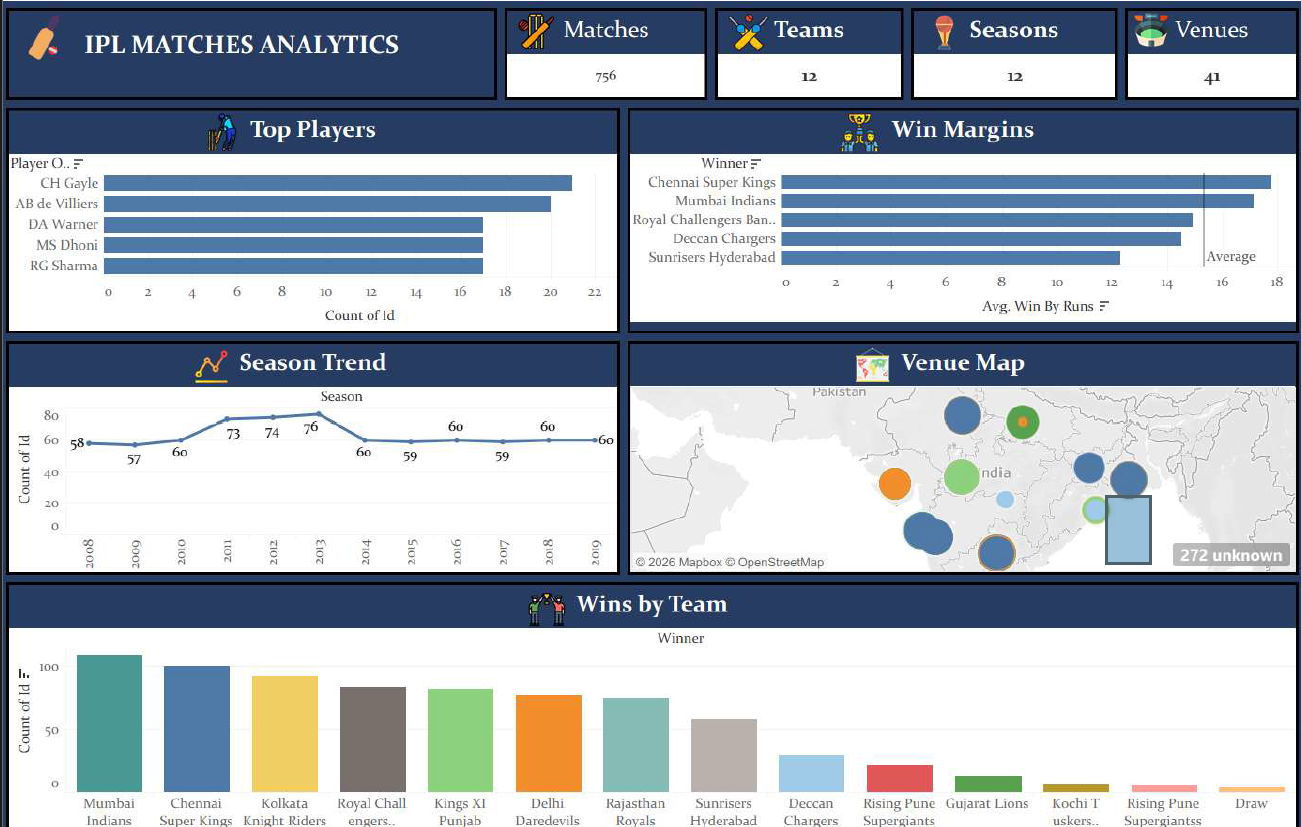

This screenshot's page, from the dashboard's own definition file:
{"tool":"tableau","page":{"name":"Dashboard 1","canvas":[1400,900],"ordinal":0},"visuals":[{"type":"text","box":[8,8,531,105.6]},{"type":"worksheet","title":"Matches","mark":"Automatic","box":[539,8,224,105.6]},{"type":"worksheet","title":"Teams","mark":"Automatic","box":[763,8,209,105.6]},{"type":"worksheet","title":"Seasons","mark":"Automatic","box":[972,8,227,105.6]},{"type":"worksheet","title":"Venues","mark":"Automatic","box":[1199,8,193,105.6]},{"type":"image","param":"D:/Paras/My Document/Coding Ninja/Tableau/Case Study/Images/bat_8254692.png","box":[778,15,50,45]},{"type":"image","param":"D:/Paras/My Document/Coding Ninja/Tableau/Case Study/Images/Stadium.png","box":[1207,16,48,37]},{"type":"image","param":"D:/Paras/My Document/Coding Ninja/Tableau/Case Study/Images/cricket_2160064.png","box":[554,17,46,39]},{"type":"image","param":"D:/Paras/My Document/Coding Ninja/Tableau/Case Study/Images/Trophy.png","box":[990,18,44,39]},{"type":"worksheet","title":"Top Players","mark":"Automatic","rows":["player_of_match"],"cols":["id"],"box":[8,113.6,662,248.8]},{"type":"worksheet","title":"Win Margins","mark":"Automatic","rows":["winner"],"cols":["win_by_runs"],"box":[670,113.6,722,248.8]},{"type":"image","param":"D:/Paras/My Document/Coding Ninja/Tableau/Case Study/Images/Winner teams.png","box":[891,121,60,46]},{"type":"image","param":"D:/Paras/My Document/Coding Ninja/Tableau/Case Study/Images/Cricket Player.png","box":[212,122,59,43]},{"type":"worksheet","title":"Season Trend","mark":"Automatic","rows":["id"],"cols":["Season"],"box":[8,362.5,662,255.5]},{"type":"worksheet","title":"Venue Map","mark":"Automatic","box":[670,362.5,722,255.5]},{"type":"image","param":"D:/Paras/My Document/Coding Ninja/Tableau/Case Study/Images/Map.png","box":[907,372,56,38]},{"type":"image","param":"D:/Paras/My Document/Coding Ninja/Tableau/Case Study/Images/Trend line.png","box":[200,374,60,38]},{"type":"worksheet","title":"Wins by Team","mark":"Automatic","rows":["id"],"cols":["winner"],"box":[8,618,1384,274]},{"type":"image","param":"D:/Paras/My Document/Coding Ninja/Tableau/Case Study/Images/Win Team.png","box":[558,629,59,40]}]}

Visuals, with their boxes in screenshot pixels (x1, y1, x2, y2), scaled from the page's 1400x900 canvas onto the 1301x827 screenshot:
text: pyautogui.locateOnScreen(7, 7, 501, 104)
"Matches" worksheet: pyautogui.locateOnScreen(501, 7, 709, 104)
"Teams" worksheet: pyautogui.locateOnScreen(709, 7, 903, 104)
"Seasons" worksheet: pyautogui.locateOnScreen(903, 7, 1114, 104)
"Venues" worksheet: pyautogui.locateOnScreen(1114, 7, 1294, 104)
image: pyautogui.locateOnScreen(723, 14, 769, 55)
image: pyautogui.locateOnScreen(1122, 15, 1166, 49)
image: pyautogui.locateOnScreen(515, 16, 558, 51)
image: pyautogui.locateOnScreen(920, 17, 961, 52)
"Top Players" worksheet: pyautogui.locateOnScreen(7, 104, 623, 333)
"Win Margins" worksheet: pyautogui.locateOnScreen(623, 104, 1294, 333)
image: pyautogui.locateOnScreen(828, 111, 884, 153)
image: pyautogui.locateOnScreen(197, 112, 252, 152)
"Season Trend" worksheet: pyautogui.locateOnScreen(7, 333, 623, 568)
"Venue Map" worksheet: pyautogui.locateOnScreen(623, 333, 1294, 568)
image: pyautogui.locateOnScreen(843, 342, 895, 377)
image: pyautogui.locateOnScreen(186, 344, 242, 379)
"Wins by Team" worksheet: pyautogui.locateOnScreen(7, 568, 1294, 820)
image: pyautogui.locateOnScreen(519, 578, 573, 615)
